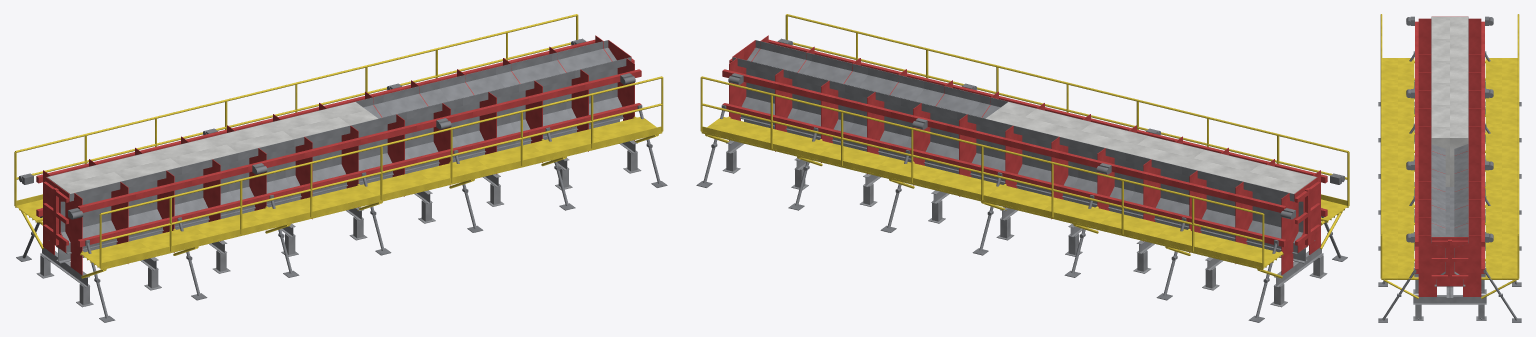
The model's file is i-girder-mould.glb.
The picture shows the model from 3 angles, left to right: view 1: azimuth 30°, elevation 25°; view 2: azimuth 150°, elevation 25°; view 3: azimuth 270°, elevation 25°; orthographic projection. The views are drawn at different scales.
Visible parts, largest first — view 1: SideShutters, Walkways, Ribs&Walers, ConcreteUnit(context), BaseFrame, Props&Clamps, EndBulkheads, SoffitBed, Vibrators; view 2: SideShutters, Walkways, Ribs&Walers, ConcreteUnit(context), BaseFrame, Props&Clamps, EndBulkheads, SoffitBed, Vibrators; view 3: Walkways, Ribs&Walers, ConcreteUnit(context), SideShutters, BaseFrame, EndBulkheads, Props&Clamps, Vibrators, SoffitBed.
Boxes of the visible parts, x1,y1,x2,y2 form: SideShutters: (46, 40, 631, 252); Walkways: (14, 14, 663, 278); Ribs&Walers: (36, 35, 641, 275); ConcreteUnit(context): (47, 102, 377, 193); BaseFrame: (36, 119, 641, 307); Props&Clamps: (16, 105, 667, 322); EndBulkheads: (43, 40, 634, 252); SoffitBed: (48, 117, 624, 254); Vibrators: (18, 38, 635, 219); SideShutters: (732, 40, 1317, 252); Walkways: (700, 14, 1349, 278); Ribs&Walers: (722, 35, 1327, 275); ConcreteUnit(context): (986, 102, 1316, 193); BaseFrame: (722, 119, 1327, 307); Props&Clamps: (696, 105, 1347, 322); EndBulkheads: (729, 40, 1320, 252); SoffitBed: (739, 117, 1315, 254); Vibrators: (728, 38, 1345, 219); Walkways: (1380, 14, 1519, 298); Ribs&Walers: (1415, 18, 1484, 296); ConcreteUnit(context): (1431, 17, 1468, 186); SideShutters: (1431, 17, 1468, 285); BaseFrame: (1413, 80, 1486, 320); EndBulkheads: (1431, 16, 1468, 286); Props&Clamps: (1378, 51, 1521, 322); Vibrators: (1406, 16, 1493, 242); SoffitBed: (1434, 187, 1465, 286).
Bounding box in the file's own units: 12.33 × 2.22 × 3.29.
Materials: 6 (6 with a texture image).
